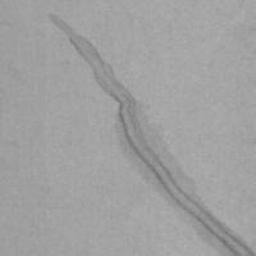Water spot: (46, 12, 256, 256)
